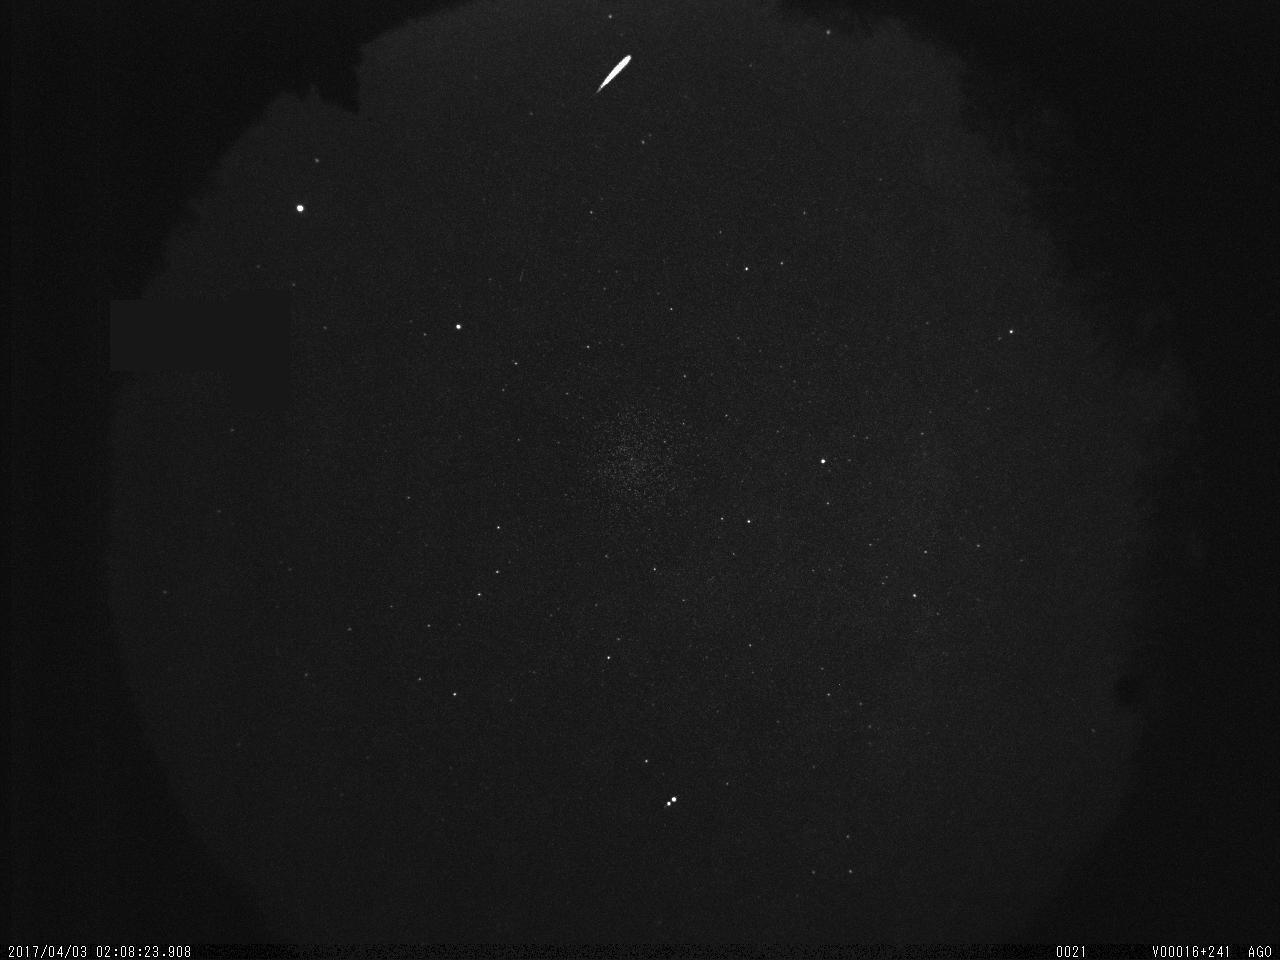Meteor: (591, 43, 640, 103)
